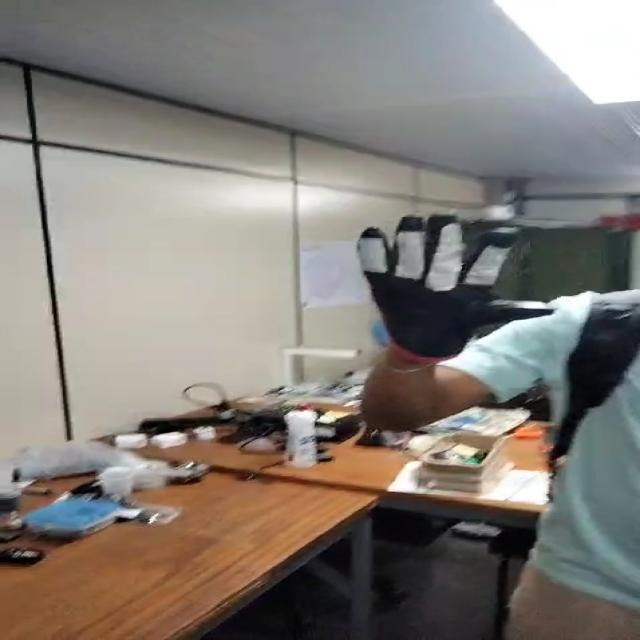Gloves: (352, 209, 556, 363)
